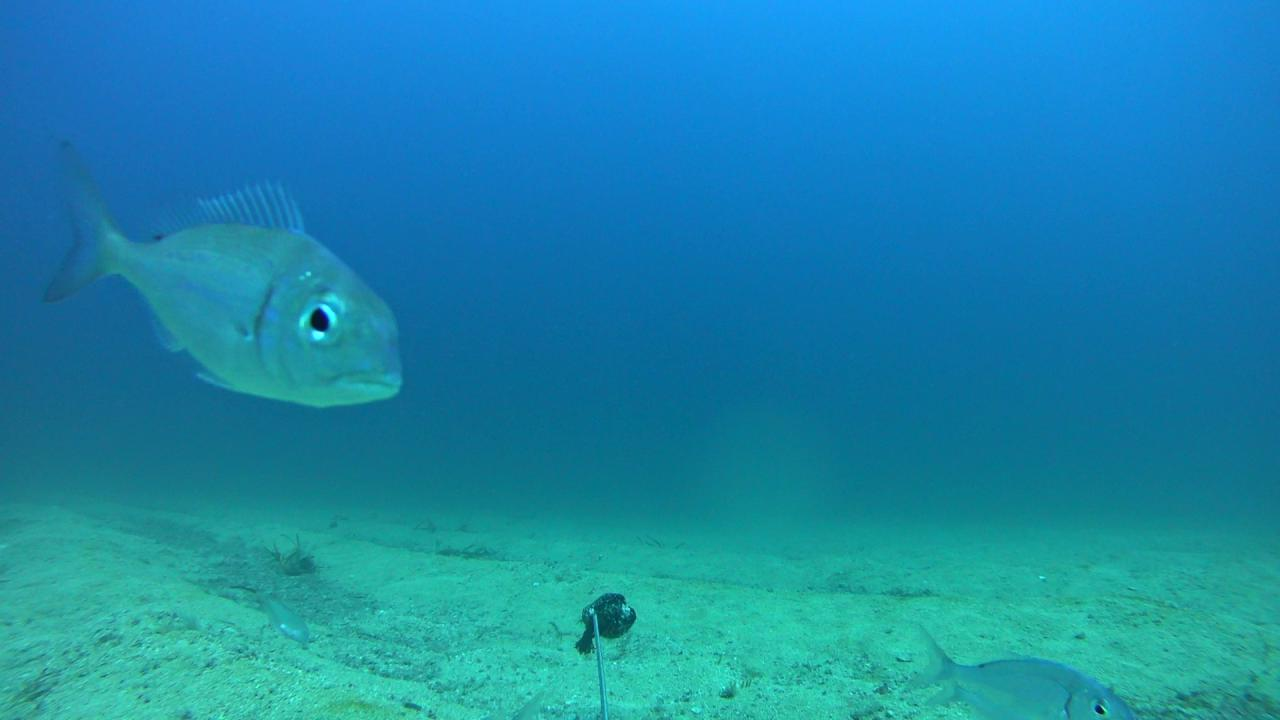pagellus: (47, 137, 405, 408)
